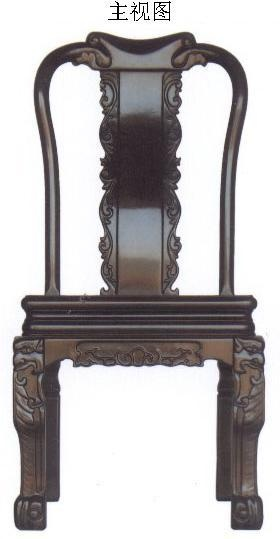obstacle: (13, 32, 263, 529)
